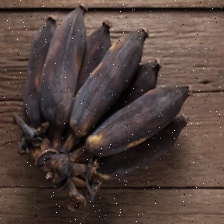banana: (47, 44, 204, 214)
